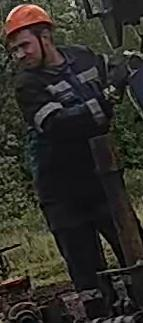gloves: (95, 45, 134, 105)
helmet: (3, 3, 53, 40)
vest: (13, 43, 113, 206)
